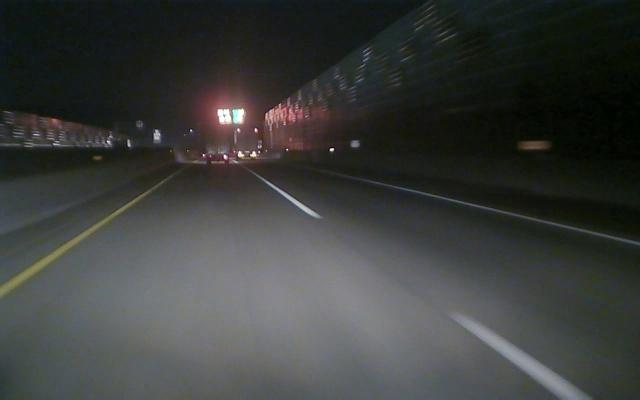lane: (260, 177, 592, 398), (348, 175, 640, 247), (1, 192, 146, 296)
